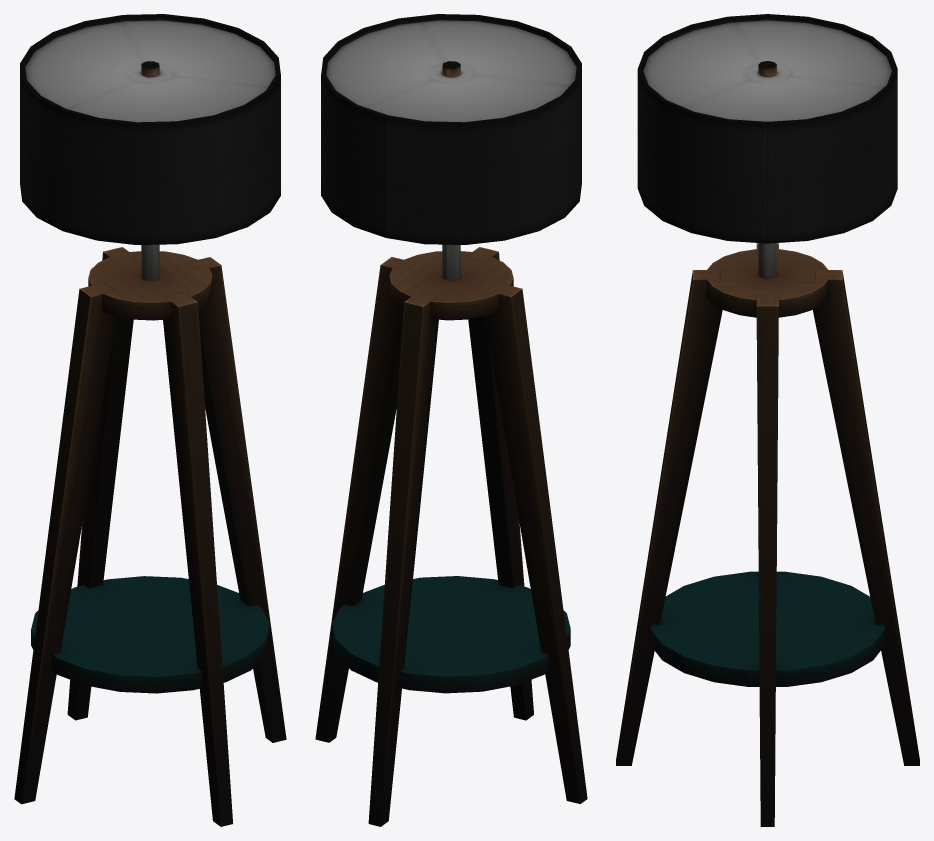
Rendered from 无储物台灯.glb.
3 views of the same model, side by side, from view 1: azimuth 30°, elevation 25°; view 2: azimuth 150°, elevation 25°; view 3: azimuth 270°, elevation 25° (orthographic).
Visible parts, largest first — view 1: TinyLiving_LampWithoutStorage_20; view 2: TinyLiving_LampWithoutStorage_20; view 3: TinyLiving_LampWithoutStorage_20.
Part boxes in pixels (bbox=[...]): TinyLiving_LampWithoutStorage_20: bbox=[14, 14, 286, 826]; TinyLiving_LampWithoutStorage_20: bbox=[315, 14, 587, 826]; TinyLiving_LampWithoutStorage_20: bbox=[616, 14, 919, 826].
Size of the model in its own units: 0.7299 by 1.85 by 0.7312.
1 material, 1 textured.
